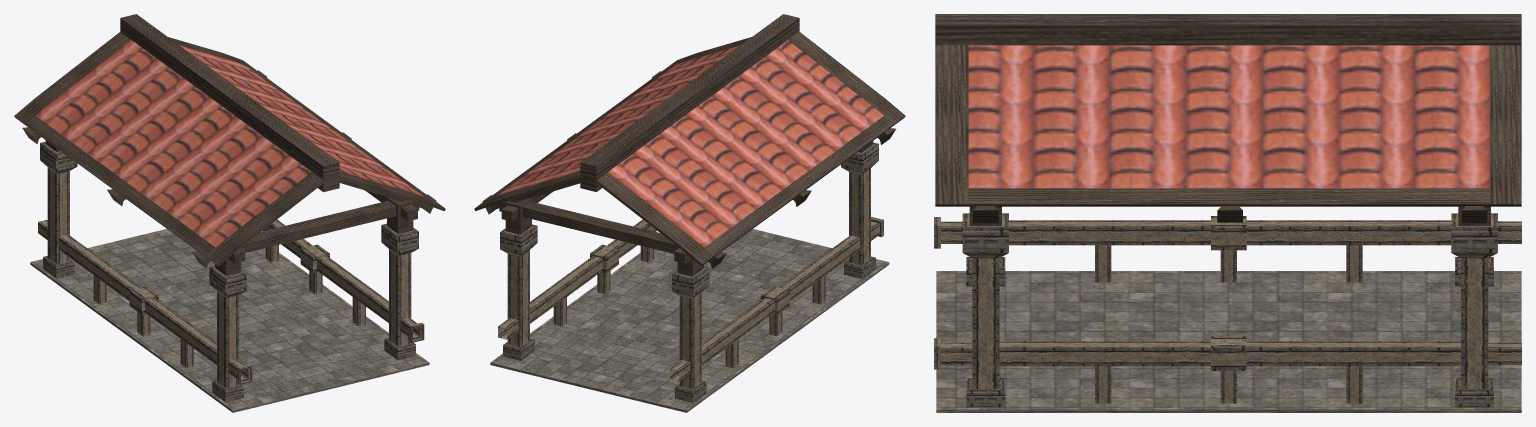
The model's file is corredorjp.fbx.
3 renders of one model, left to right at view 1: azimuth 30°, elevation 25°; view 2: azimuth 150°, elevation 25°; view 3: azimuth 270°, elevation 25°, orthographic. The views are drawn at different scales.
Visible parts, largest first — view 1: Cube; view 2: Cube; view 3: Cube.
Boxes of the visible parts, x1,y1,x2,y2 form: Cube: (14, 14, 445, 412); Cube: (474, 14, 905, 412); Cube: (934, 14, 1521, 412).
Size of the model in its own units: 3.36 by 3.05 by 5.02.
